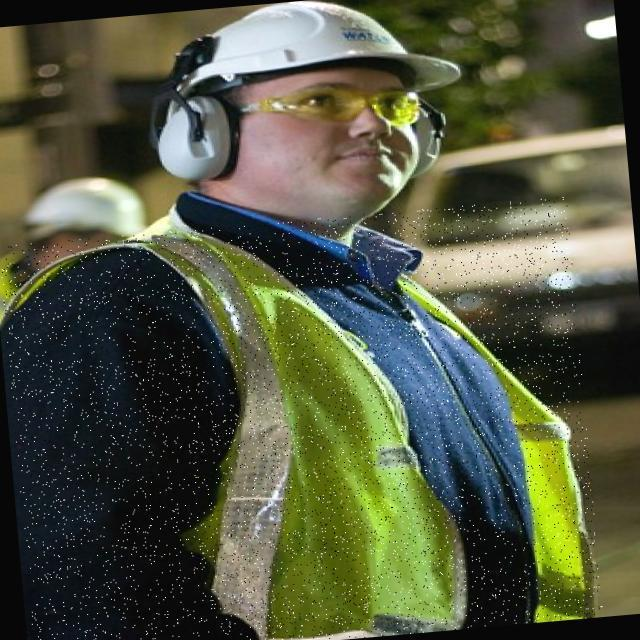helmet: (149, 5, 469, 107)
vest: (0, 196, 603, 640)
